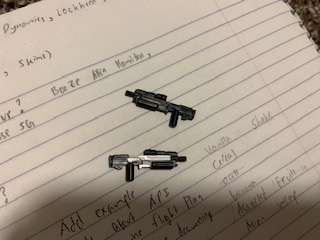rifle: (118, 88, 199, 130), (104, 147, 188, 185)
